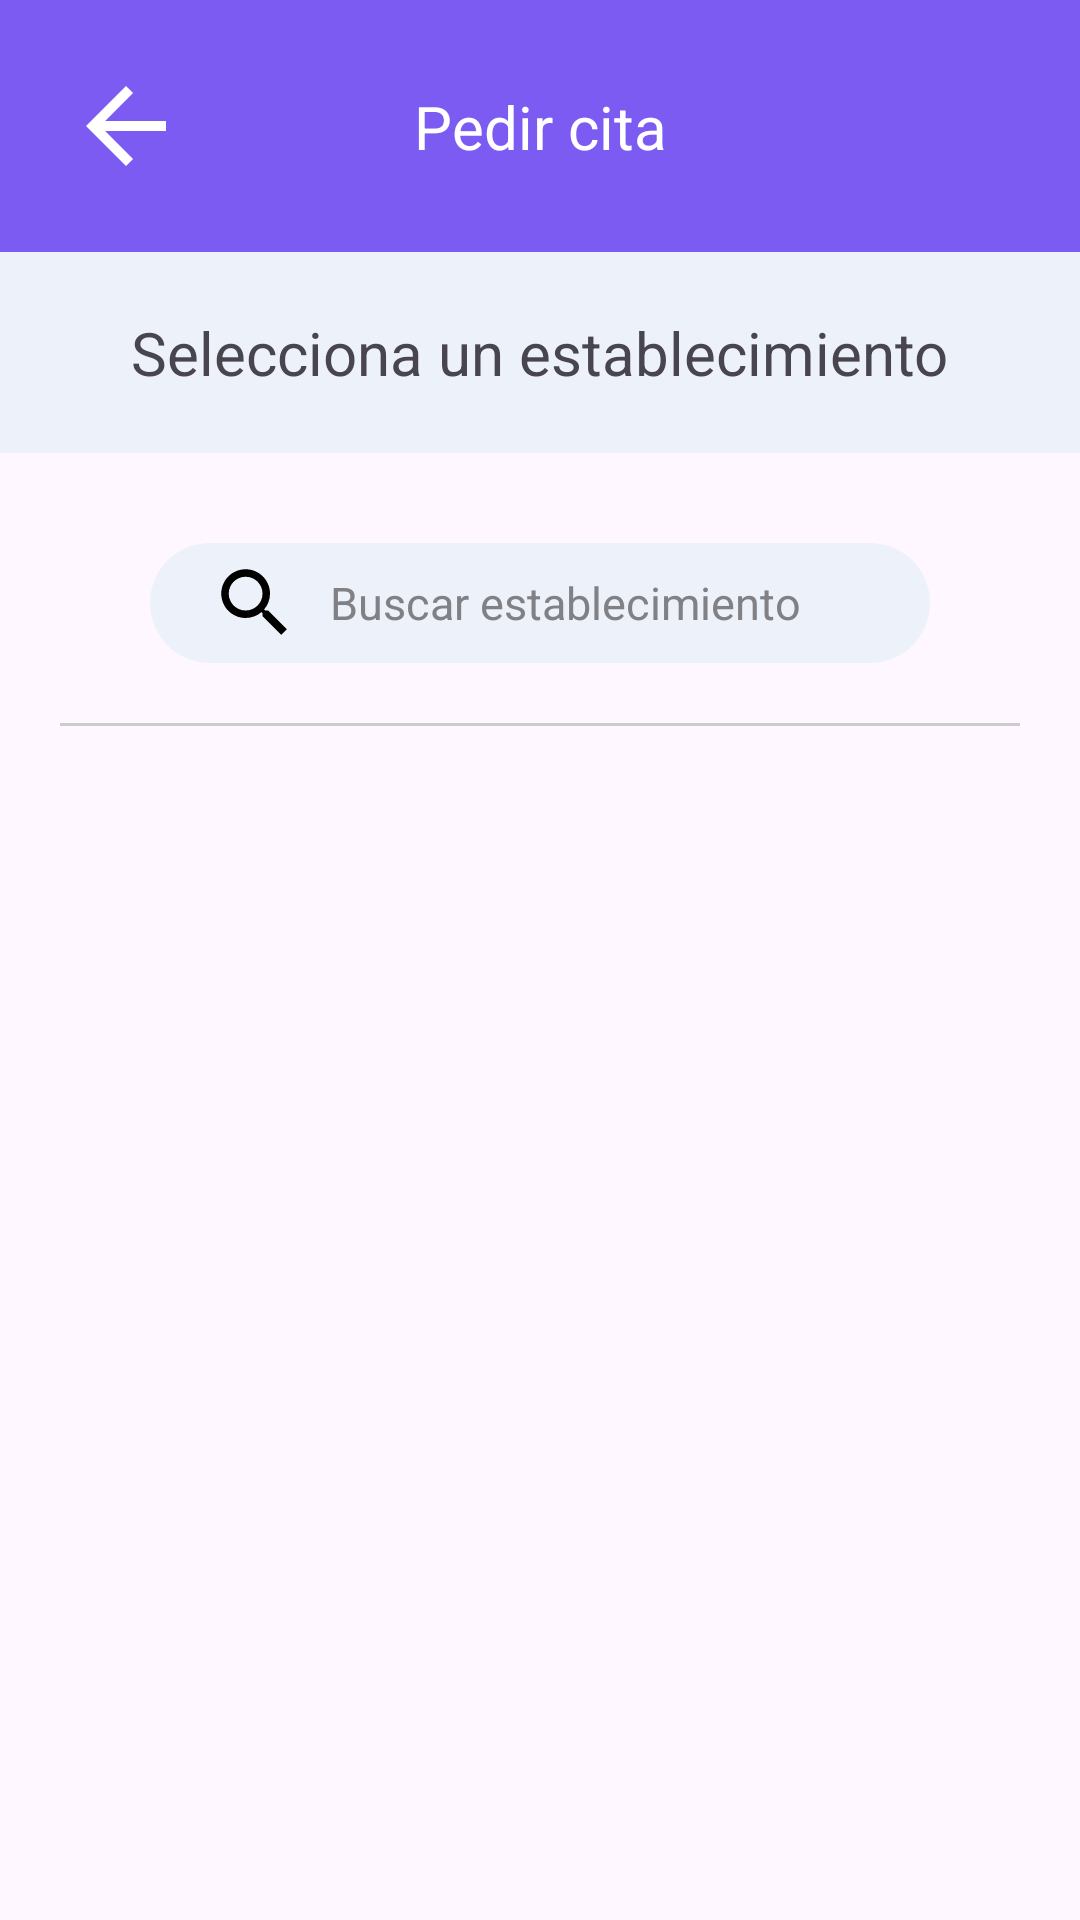

Locate icon controls on the screen. Image size 1080*1920, boxes as (x1, y1, x2, y2).
back arrow: (86, 86, 166, 166)
